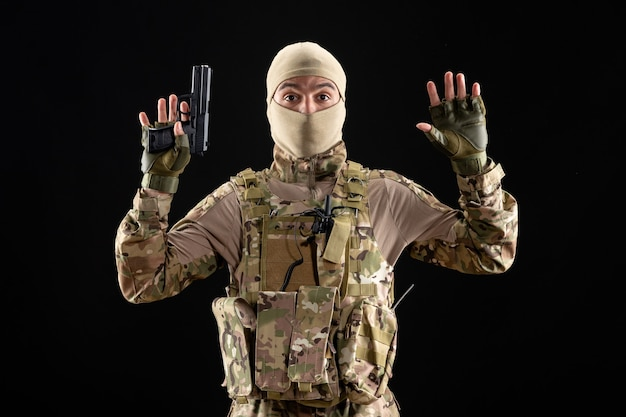gun: (139, 63, 211, 155)
